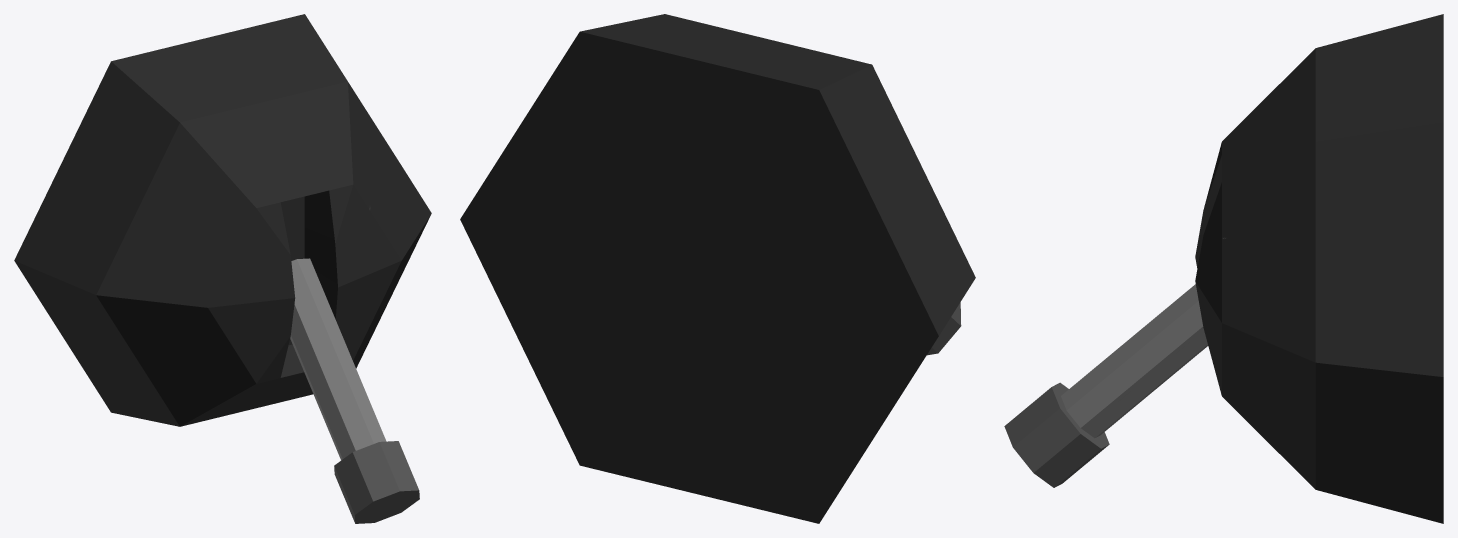
Rendered from Lever 1.fbx.
The picture shows the model from 3 angles, left to right: view 1: azimuth 30°, elevation 25°; view 2: azimuth 150°, elevation 25°; view 3: azimuth 270°, elevation 25°; orthographic projection. The views are drawn at different scales.
Parts seen in each view (by area): view 1: Lever_Base, Lever_Handle; view 2: Lever_Base, Lever_Handle; view 3: Lever_Base, Lever_Handle.
Part boxes in pixels (x1,y1,x2,y2): Lever_Base: [14, 14, 431, 426]; Lever_Handle: [290, 258, 419, 523]; Lever_Base: [460, 14, 975, 523]; Lever_Handle: [927, 302, 961, 355]; Lever_Base: [1195, 14, 1443, 523]; Lever_Handle: [1004, 284, 1208, 487].
Bounding box in the file's own units: 0.5 × 0.4479 × 0.429.
